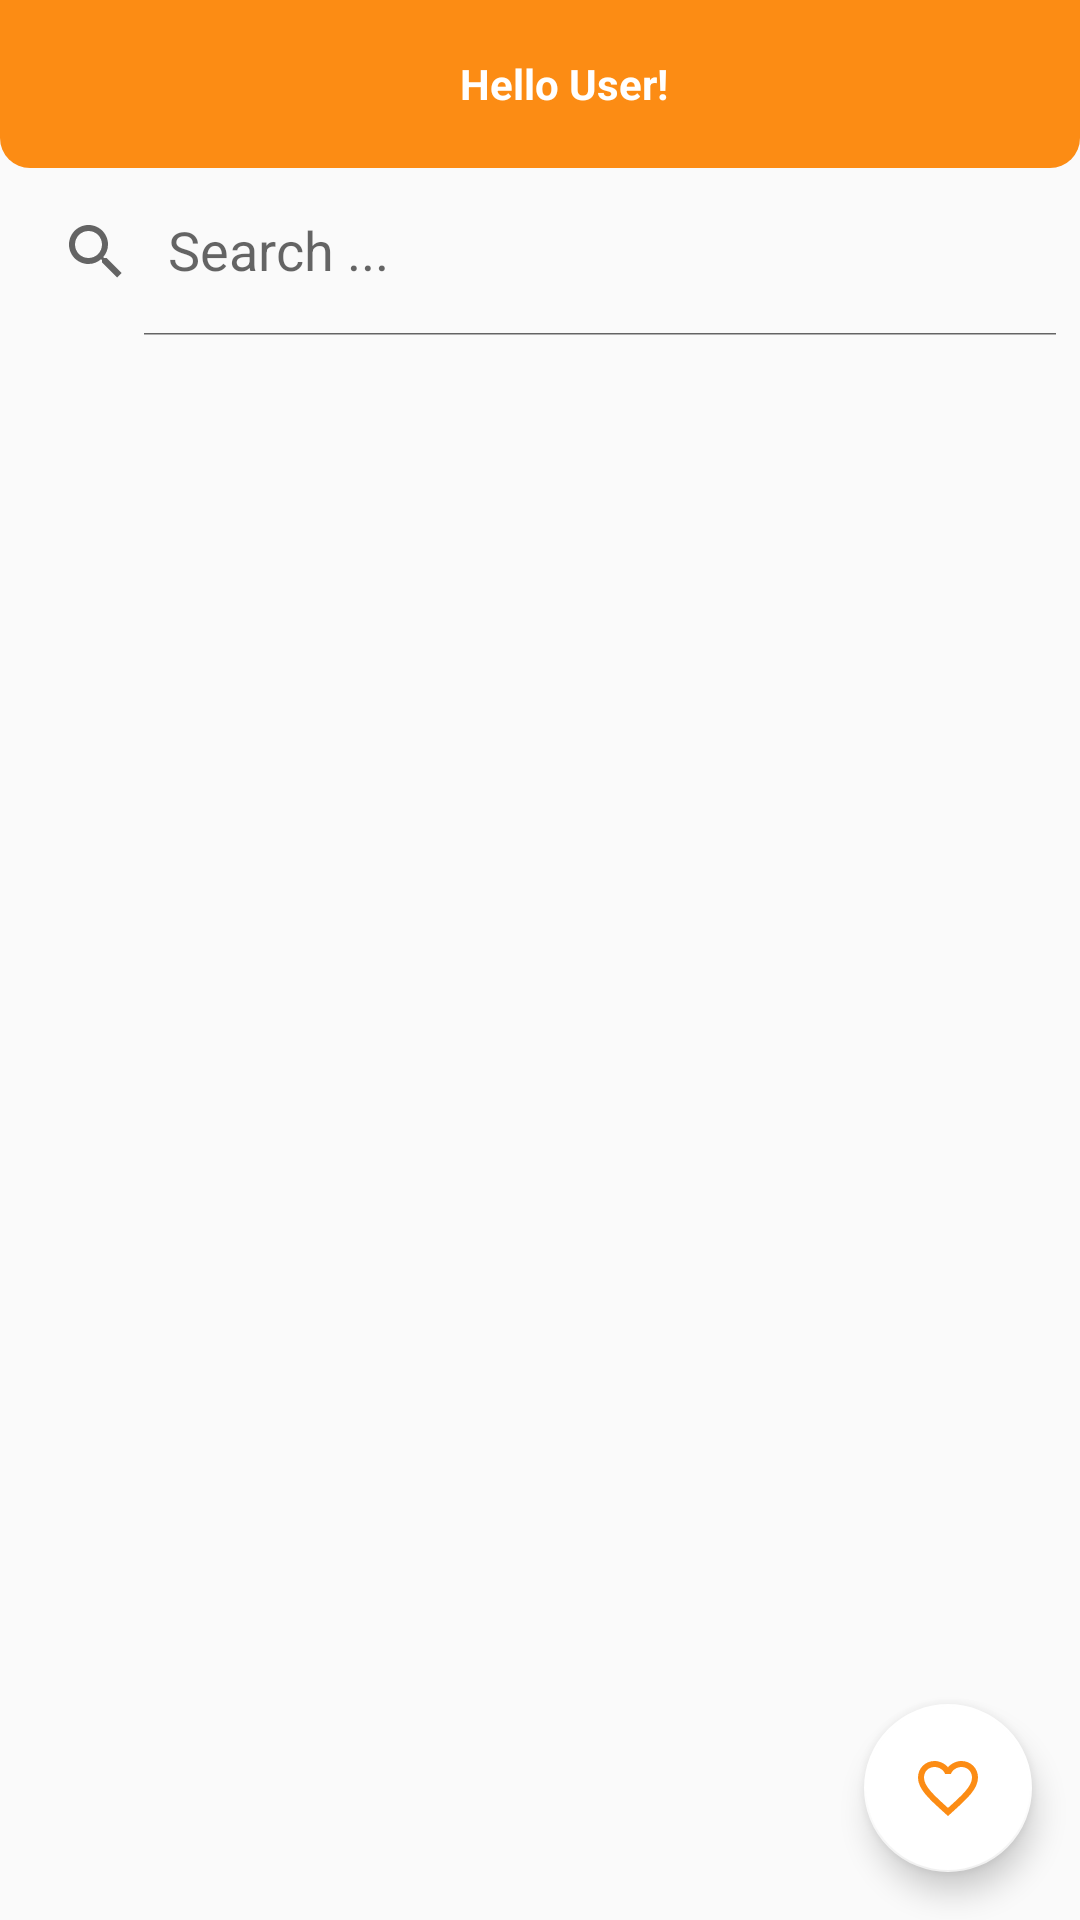

Screen size 1080 x 1920. Icon name, then its center in pixels as [x,y]:
View Favorites: [951,1816]
